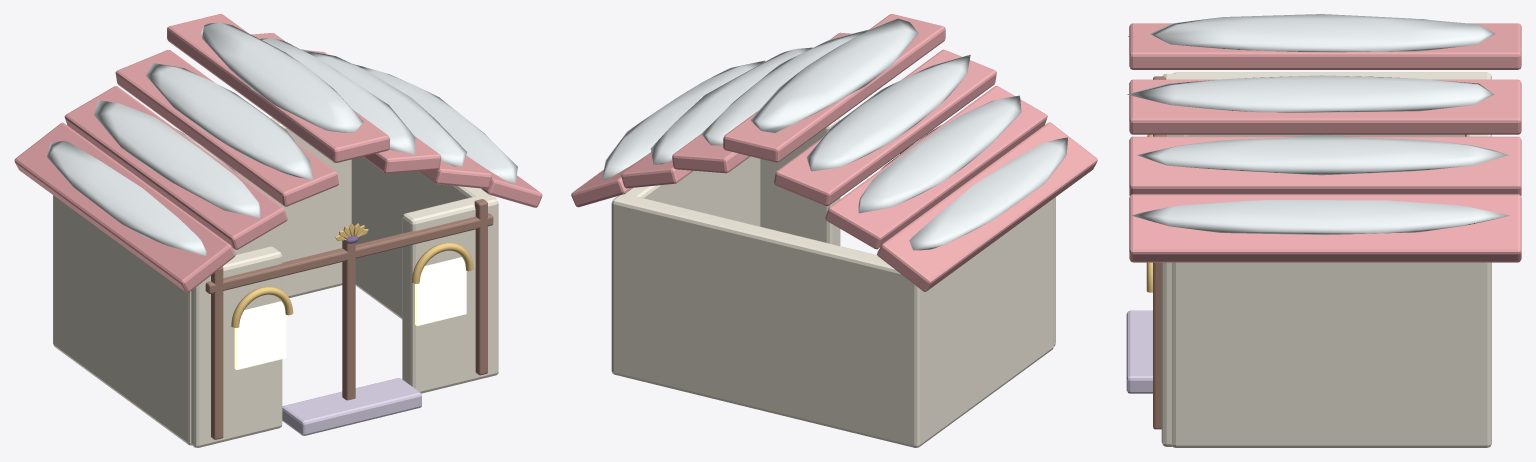
The model's file is lagoon_alpine_chalet_c.glb.
The picture shows the model from 3 angles, left to right: view 1: azimuth 30°, elevation 25°; view 2: azimuth 150°, elevation 25°; view 3: azimuth 270°, elevation 25°; orthographic projection. The views are drawn at different scales.
Visible parts, largest first — view 1: lagoon_alpine_chalet_c.001; view 2: lagoon_alpine_chalet_c.001; view 3: lagoon_alpine_chalet_c.001.
Boxes of the visible parts, left/top/right/bottom form: lagoon_alpine_chalet_c.001: left=14, top=14, right=542, bottom=447; lagoon_alpine_chalet_c.001: left=571, top=14, right=1097, bottom=447; lagoon_alpine_chalet_c.001: left=1126, top=14, right=1521, bottom=447.
Bounding box in the file's own units: 18.36 × 13.88 × 14.71.
